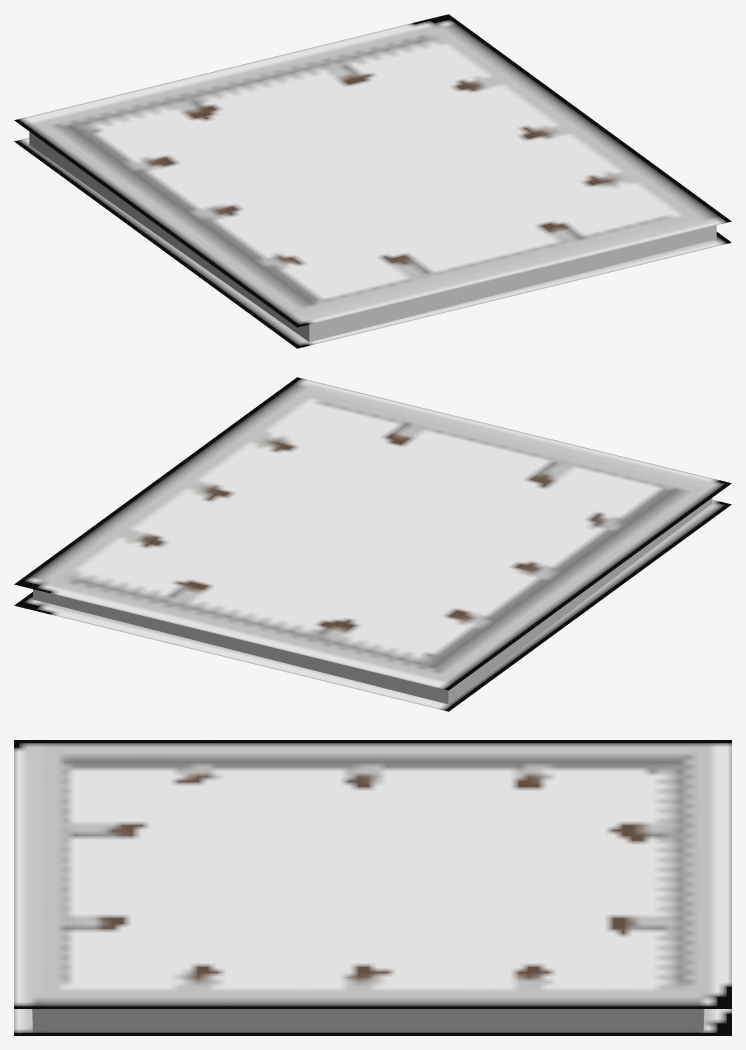
Rendered from pz_native_fixtures_windows_white_117_frame.obj.
3 renders of one model, top to bottom at view 1: azimuth 30°, elevation 25°; view 2: azimuth 150°, elevation 25°; view 3: azimuth 270°, elevation 25°, orthographic. The views are drawn at different scales.
Parts seen in each view (by area): view 1: pz_native_fixtures_windows_white_117_frame; view 2: pz_native_fixtures_windows_white_117_frame; view 3: pz_native_fixtures_windows_white_117_frame.
Boxes of the visible parts, box(x1,y1,x2,y2) form: pz_native_fixtures_windows_white_117_frame: box(14, 14, 731, 348); pz_native_fixtures_windows_white_117_frame: box(14, 377, 731, 711); pz_native_fixtures_windows_white_117_frame: box(14, 740, 731, 1035).
Size of the model in its own units: 0.8594 by 0.04 by 0.9696.
Materials: 1 (1 with a texture image).
